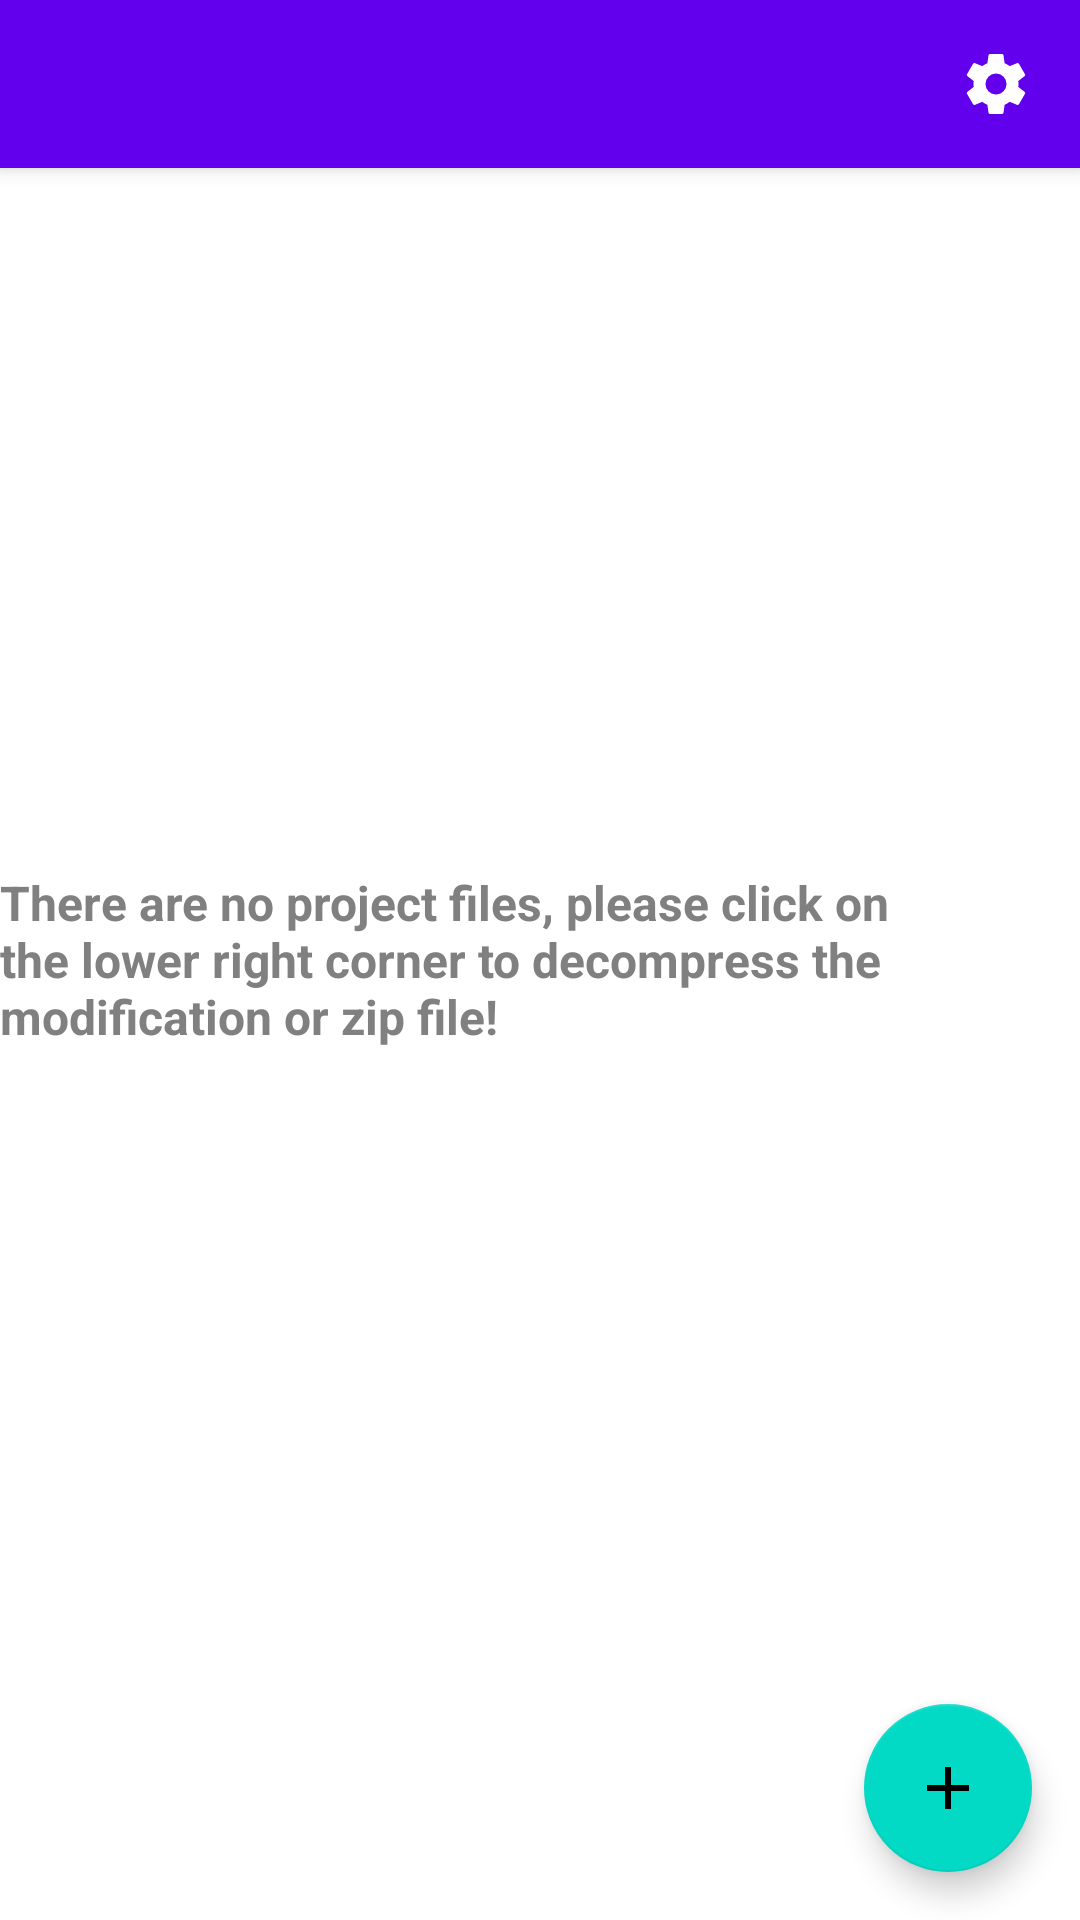

Where to tap for icons on this 1080×1920 app screen, as point (x, y):
add: point (948, 1788)
settings: point (995, 84)
